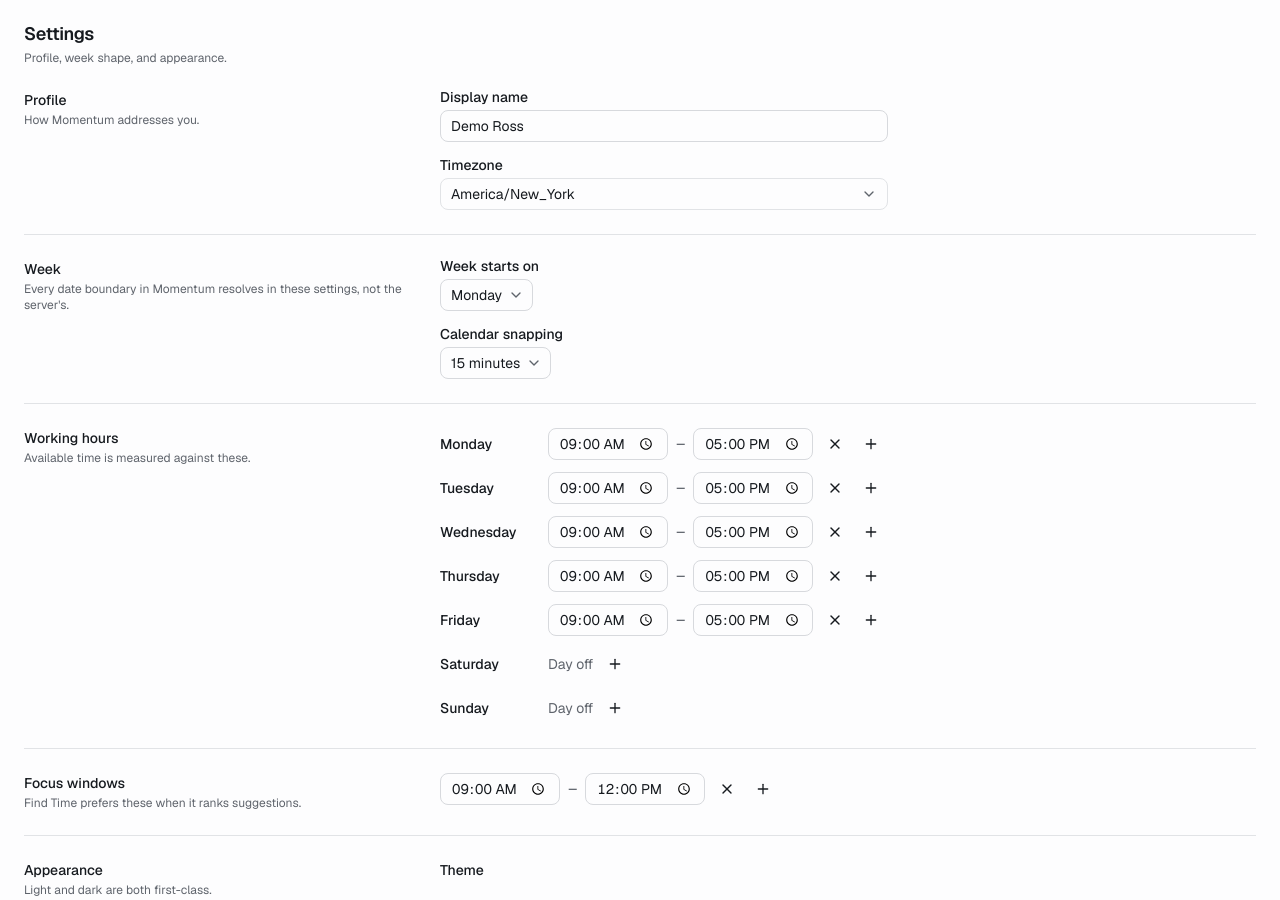
Scenario: working hours › shows what was actually stored when the server merged the windows
What coordinates should you click on to do the following:
click the button named "Add Tuesday window"
I would click on:
 (872, 488)
Its box is [858,474,886,502].
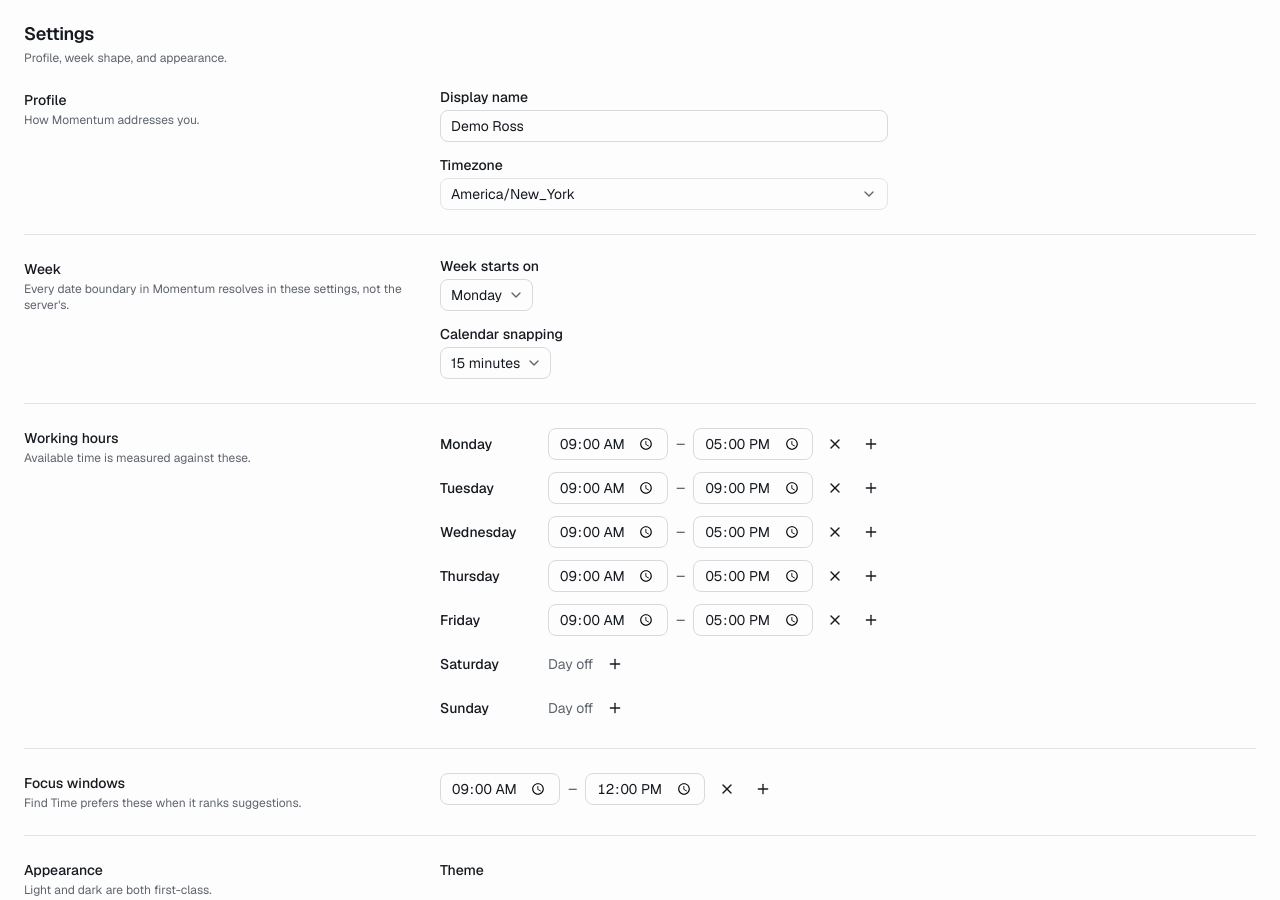
Expected: the time field named "Tuesday window 1 end" holds "21:00", [694,472,814,504]
